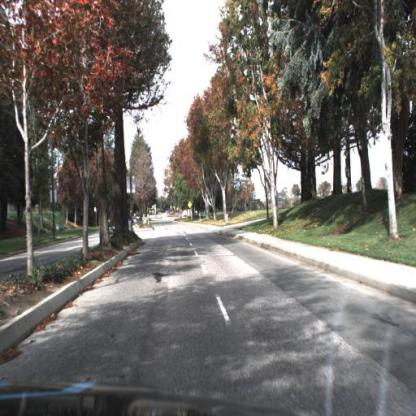car: (137, 216, 142, 222), (159, 213, 163, 220)
